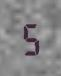five: (19, 20, 40, 55)
